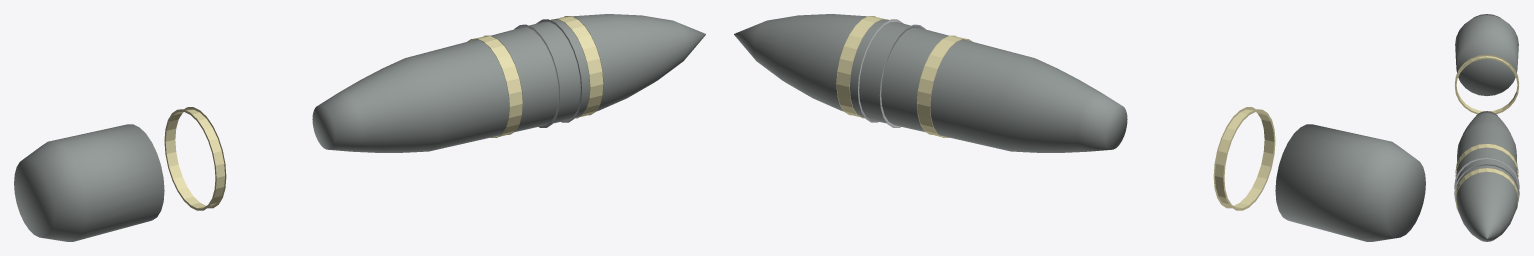
The model's file is CN_SLBM_JL1_LOD1.fbx.
3 renders of one model, left to right at view 1: azimuth 30°, elevation 25°; view 2: azimuth 150°, elevation 25°; view 3: azimuth 270°, elevation 25°, orthographic. The views are drawn at different scales.
Visible parts, largest first — view 1: WPN_CN_SLBM_JL1_LOD1_Body, WPN_CN_SLBM_JL1_LOD1_Tail, WPN_CN_SLBM_JL1_LOD1_Marking, WPN_CN_SLBM_JL1_LOD1_Detail; view 2: WPN_CN_SLBM_JL1_LOD1_Body, WPN_CN_SLBM_JL1_LOD1_Tail, WPN_CN_SLBM_JL1_LOD1_Marking, WPN_CN_SLBM_JL1_LOD1_Detail; view 3: WPN_CN_SLBM_JL1_LOD1_Body, WPN_CN_SLBM_JL1_LOD1_Tail, WPN_CN_SLBM_JL1_LOD1_Marking, WPN_CN_SLBM_JL1_LOD1_Detail.
Part boxes in pixels (x1,y1,x2,y2): WPN_CN_SLBM_JL1_LOD1_Body: [312, 14, 705, 152]; WPN_CN_SLBM_JL1_LOD1_Tail: [14, 124, 164, 241]; WPN_CN_SLBM_JL1_LOD1_Marking: [164, 16, 603, 210]; WPN_CN_SLBM_JL1_LOD1_Detail: [514, 19, 581, 127]; WPN_CN_SLBM_JL1_LOD1_Body: [734, 14, 1127, 152]; WPN_CN_SLBM_JL1_LOD1_Tail: [1275, 124, 1425, 241]; WPN_CN_SLBM_JL1_LOD1_Marking: [836, 16, 1275, 210]; WPN_CN_SLBM_JL1_LOD1_Detail: [858, 19, 925, 127]; WPN_CN_SLBM_JL1_LOD1_Body: [1456, 111, 1517, 241]; WPN_CN_SLBM_JL1_LOD1_Tail: [1455, 14, 1518, 95]; WPN_CN_SLBM_JL1_LOD1_Marking: [1454, 54, 1519, 212]; WPN_CN_SLBM_JL1_LOD1_Detail: [1454, 157, 1519, 203].
Bounding box in the file's own units: 10.7 × 1.47 × 1.47.
